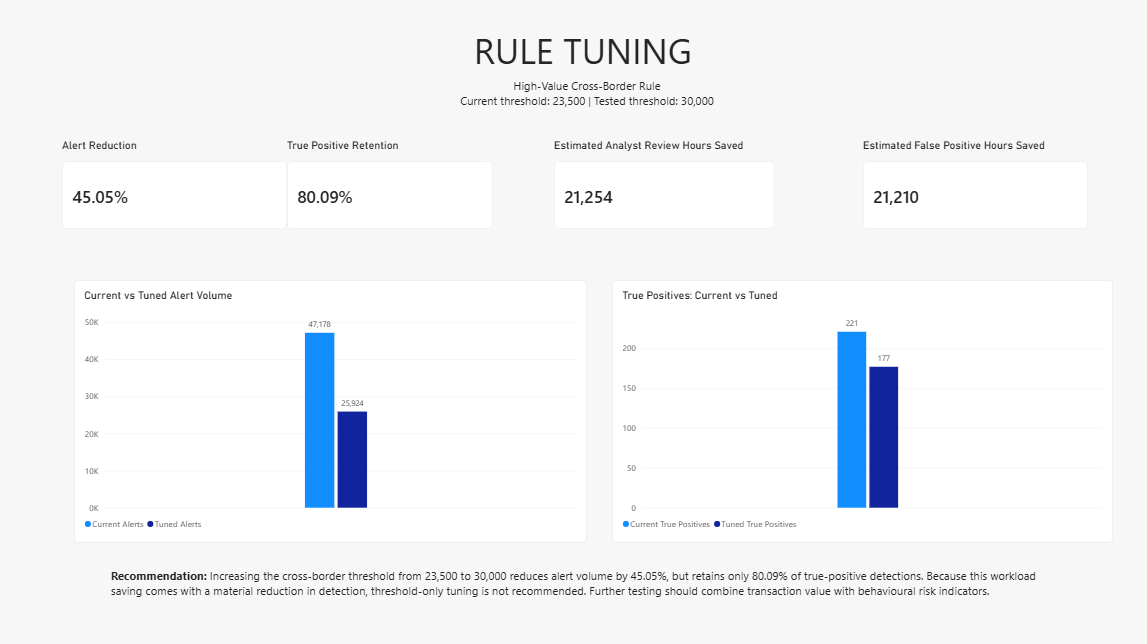

What the dashboard file says about the page in this screenshot:
{"tool":"powerbi","page":{"name":"Rule Tuning","canvas":[1920,1080],"ordinal":2},"visuals":[{"type":"textbox","box":[791.7,50,376.7,86.7],"z":0},{"type":"cardVisual","title":"Alert Reduction","fields":{"Data":["public cross_border_tuning_summary.Alert Reduction %"]},"box":[105,237.5,375,150],"z":1000},{"type":"cardVisual","title":"True Positive Retention","fields":{"Data":["public cross_border_tuning_summary.True Positive Retention %"]},"box":[480,237.5,343.3,150],"z":2000},{"type":"cardVisual","title":"Estimated Analyst Review Hours Saved","fields":{"Data":["Sum(public cross_border_tuning_summary.estimated_review_hours_saved)"]},"box":[925,238.3,367.5,150],"z":3000},{"type":"cardVisual","title":"Estimated False Positive Hours Saved","fields":{"Data":["Sum(public cross_border_tuning_summary.estimated_false_positive_hours_saved)"]},"box":[1440,237.5,375,150],"z":4000},{"type":"clusteredColumnChart","title":"Current vs Tuned Alert Volume","fields":{"Y":["public cross_border_tuning_summary.Current Alerts","public cross_border_tuning_summary.Tuned Alerts"]},"box":[125,473.3,855,437.5],"z":5000},{"type":"clusteredColumnChart","title":"True Positives: Current vs Tuned","fields":{"Y":["public cross_border_tuning_summary.Current True Positives","public cross_border_tuning_summary.Tuned True Positives"]},"box":[1021.7,473.3,835,437.5],"z":6000},{"type":"textbox","box":[186.7,953.3,1546.7,80],"z":7000},{"type":"textbox","box":[763.3,136.7,433.3,150],"z":7001}]}

Visuals, with their boxes in screenshot pixels (x1, y1, x2, y2), scaled from the page's 1920x1080 canvas onto the 1147x644 screenshot:
textbox: rect(473, 30, 698, 82)
"Alert Reduction" cardVisual: rect(63, 142, 287, 231)
"True Positive Retention" cardVisual: rect(287, 142, 492, 231)
"Estimated Analyst Review Hours Saved" cardVisual: rect(553, 142, 772, 232)
"Estimated False Positive Hours Saved" cardVisual: rect(860, 142, 1084, 231)
"Current vs Tuned Alert Volume" clusteredColumnChart: rect(75, 282, 585, 543)
"True Positives: Current vs Tuned" clusteredColumnChart: rect(610, 282, 1109, 543)
textbox: rect(112, 568, 1036, 616)
textbox: rect(456, 82, 715, 171)
